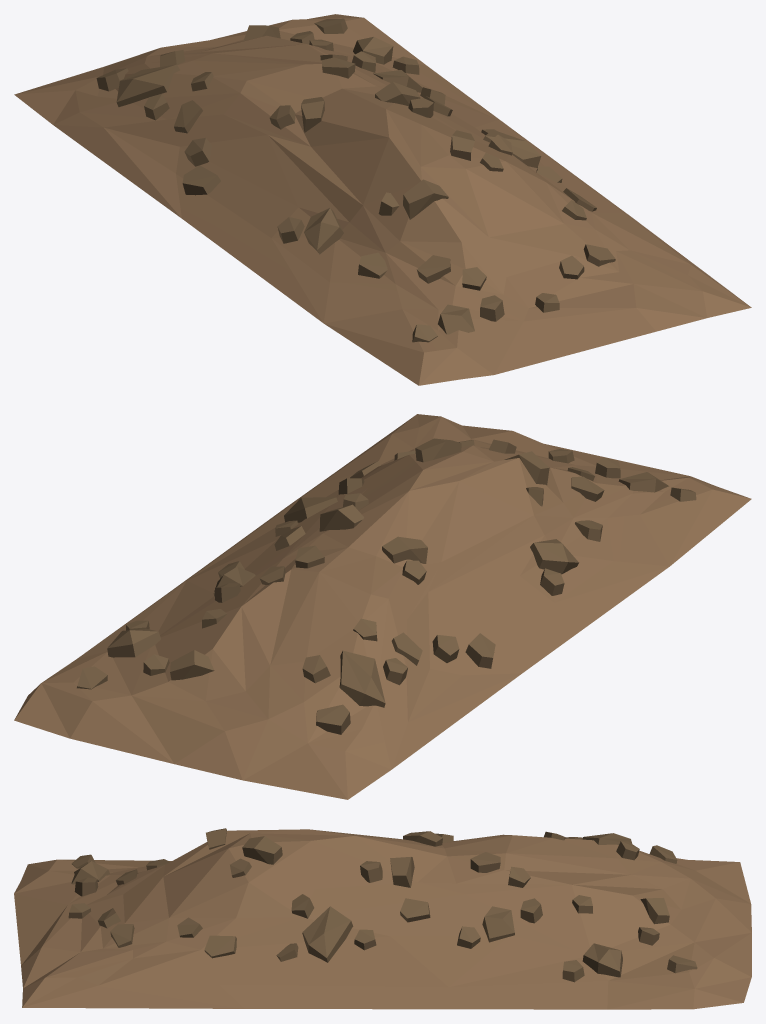
Rendered from SM_Veh_Truck_01_DumpTray_02_Dirt_01.glb.
3 views of the same model, one above another, from view 1: azimuth 30°, elevation 25°; view 2: azimuth 150°, elevation 25°; view 3: azimuth 270°, elevation 25° (orthographic). The views are drawn at different scales.
Parts seen in each view (by area): view 1: SM_Veh_Truck_01_DumpTray_02_Dirt_01; view 2: SM_Veh_Truck_01_DumpTray_02_Dirt_01; view 3: SM_Veh_Truck_01_DumpTray_02_Dirt_01.
Part boxes in pixels (x1,y1,x2,y2): SM_Veh_Truck_01_DumpTray_02_Dirt_01: [14, 14, 751, 385]; SM_Veh_Truck_01_DumpTray_02_Dirt_01: [14, 414, 751, 799]; SM_Veh_Truck_01_DumpTray_02_Dirt_01: [14, 828, 751, 1009].
Size of the model in its own units: 2.49 by 0.8022 by 5.22.
Materials: 1 (1 with a texture image).
